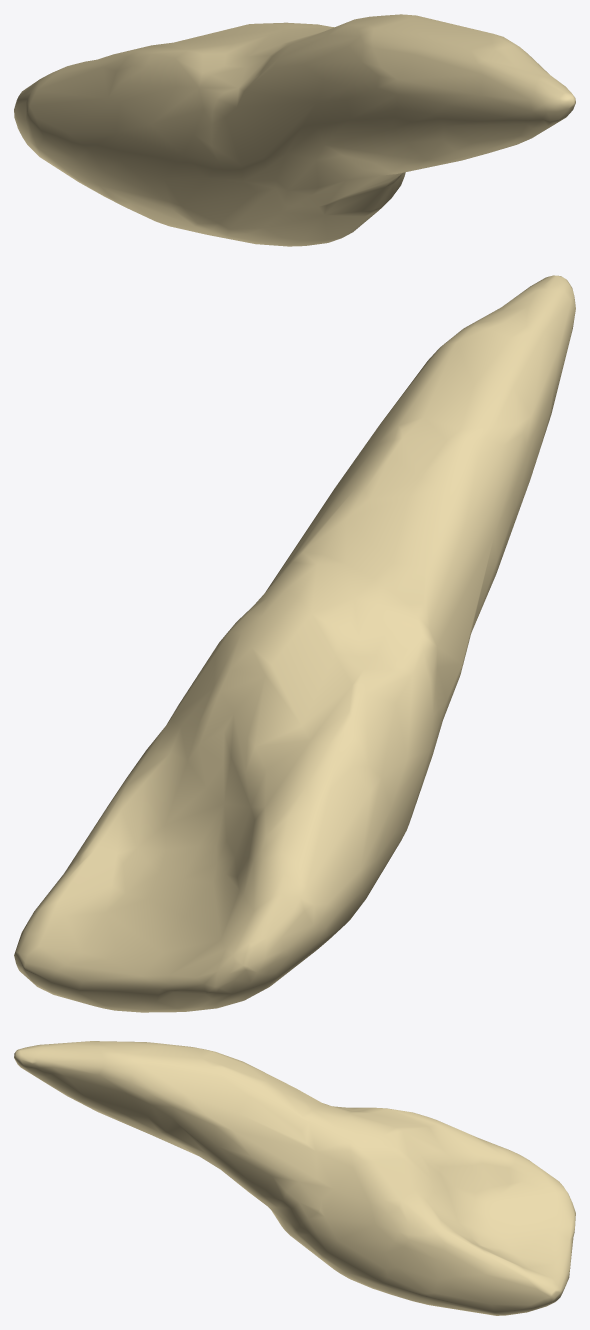
3 renders of one model, top to bottom at view 1: azimuth 30°, elevation 25°; view 2: azimuth 150°, elevation 25°; view 3: azimuth 270°, elevation 25°, orthographic. The views are drawn at different scales.
Parts seen in each view (by area): view 1: 右侧上颌中切牙; view 2: 右侧上颌中切牙; view 3: 右侧上颌中切牙.
Boxes of the visible parts, x1,y1,x2,y2 form: 右侧上颌中切牙: [14, 14, 575, 246]; 右侧上颌中切牙: [14, 275, 575, 1012]; 右侧上颌中切牙: [14, 1041, 575, 1315].
Bounding box in the file's own units: 0.0129 × 0.0186 × 0.0379.
